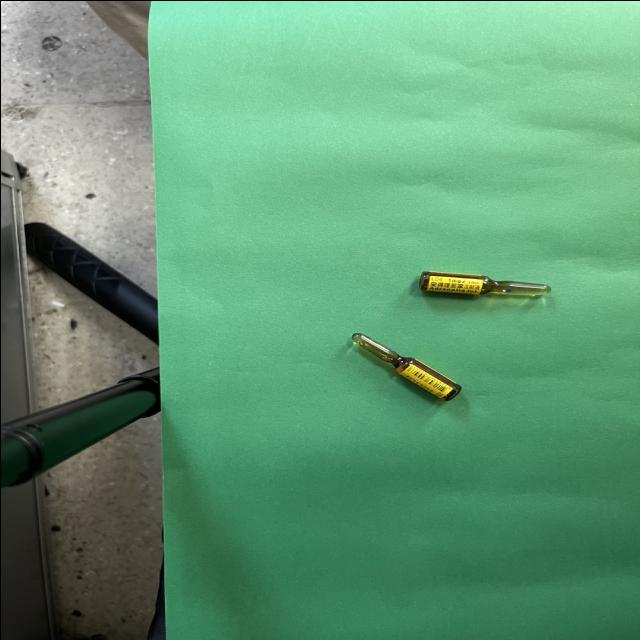Ampoules: (351, 332, 460, 400), (418, 270, 550, 296)
